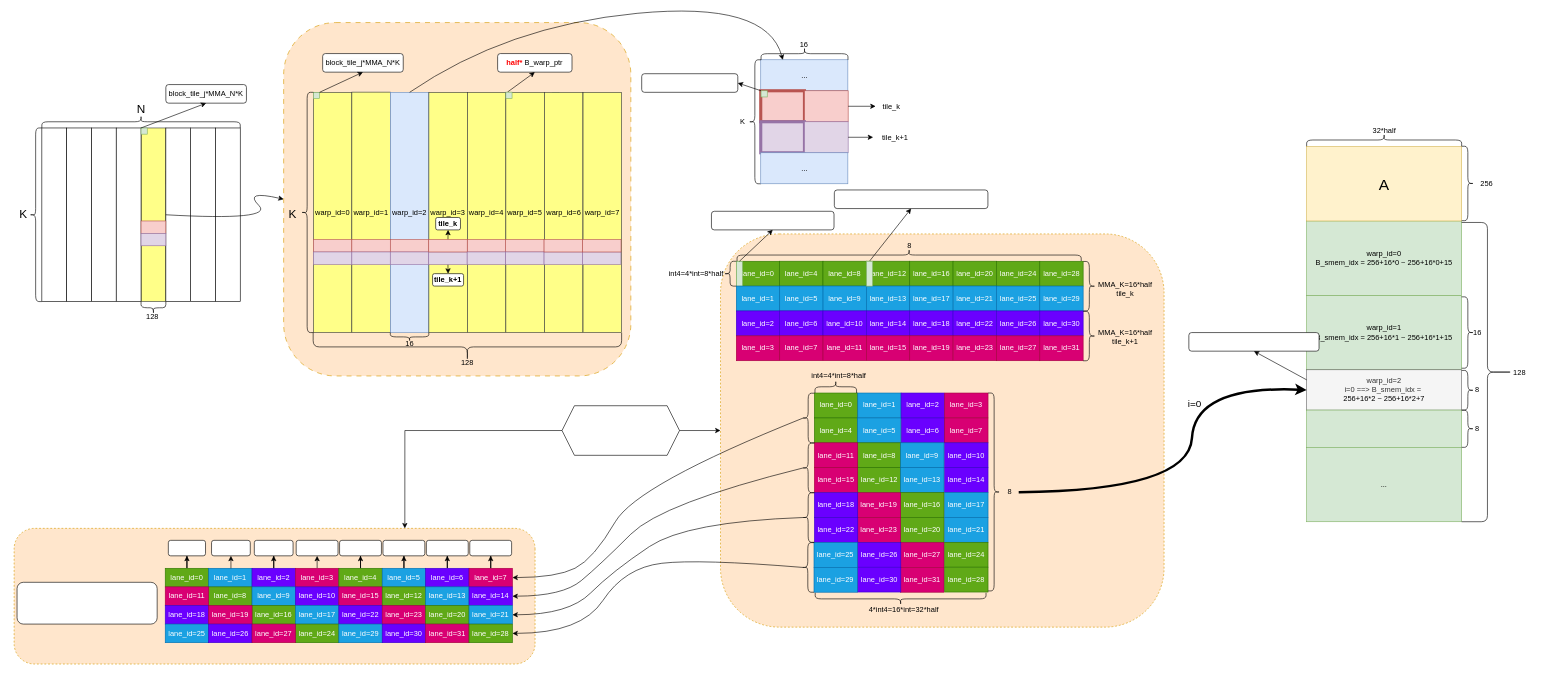
This 1543x675 diagram has some shape labels left out. Here are the shapes that lost their labels. From the top down, the centre of each, then its label:
At (x=689, y=82): "B_warp_ptr+tile_k*MMA_K".
At (x=911, y=199): "( int4* )(B_warp_ptr+tile_k*MMA_K+ (lane_id/CHUNK_COPY_LINE_LANES)*K)".
At (x=772, y=220): "( int4* )(B_warp_ptr+tile_k*MMA_K)".
At (x=1253, y=341): "for(size_t i=0; i<B_smem_iters; ++i)".
At (x=620, y=430): "part of shared memory smem[][AB_SMEM_STRIDE]".
At (x=1384, y=428): "warp_id=2 i=1 ==> B_smem_idx = 256+16*2+8 ~ 256+16*2+15".
At (x=187, y=548): "bank 0~3".
At (x=230, y=548): "bank 4~7".
At (x=273, y=548): "bank 8~11".
At (x=317, y=548): "bank 12~15".
At (x=360, y=548): "bank 16~19".
At (x=403, y=548): "bank20-~23".
At (x=447, y=548): "bank24~27".
At (x=490, y=548): "bank28~31".
At (x=86, y=603): "different color in different bank ==> no bank conflict any more !".
